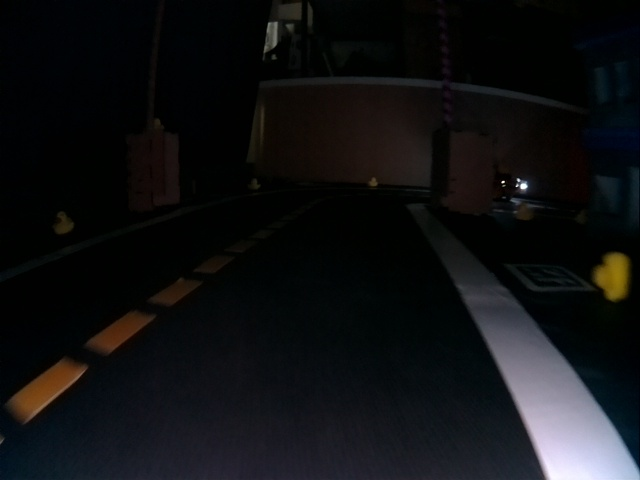Duckie: (593, 252, 630, 301), (53, 211, 73, 232), (370, 178, 376, 187)
QR code: (507, 262, 596, 291)
